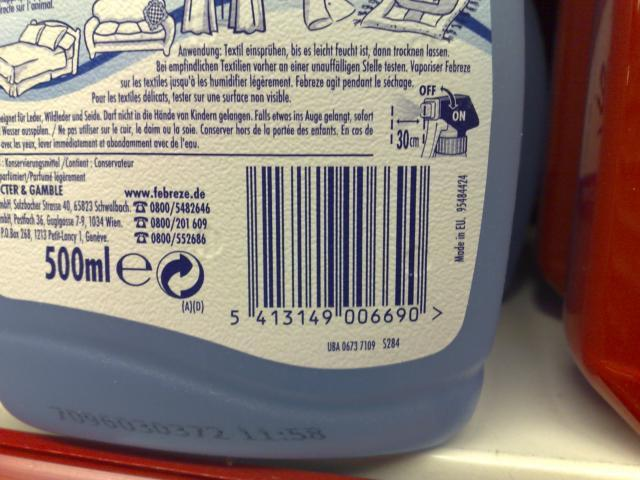Barcode: (227, 160, 446, 331)
